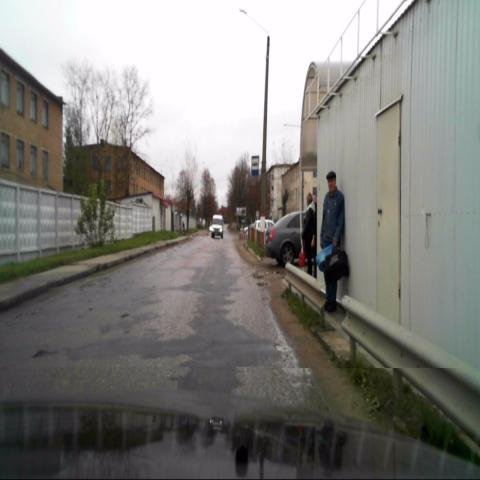5_16: (251, 155, 259, 176)
